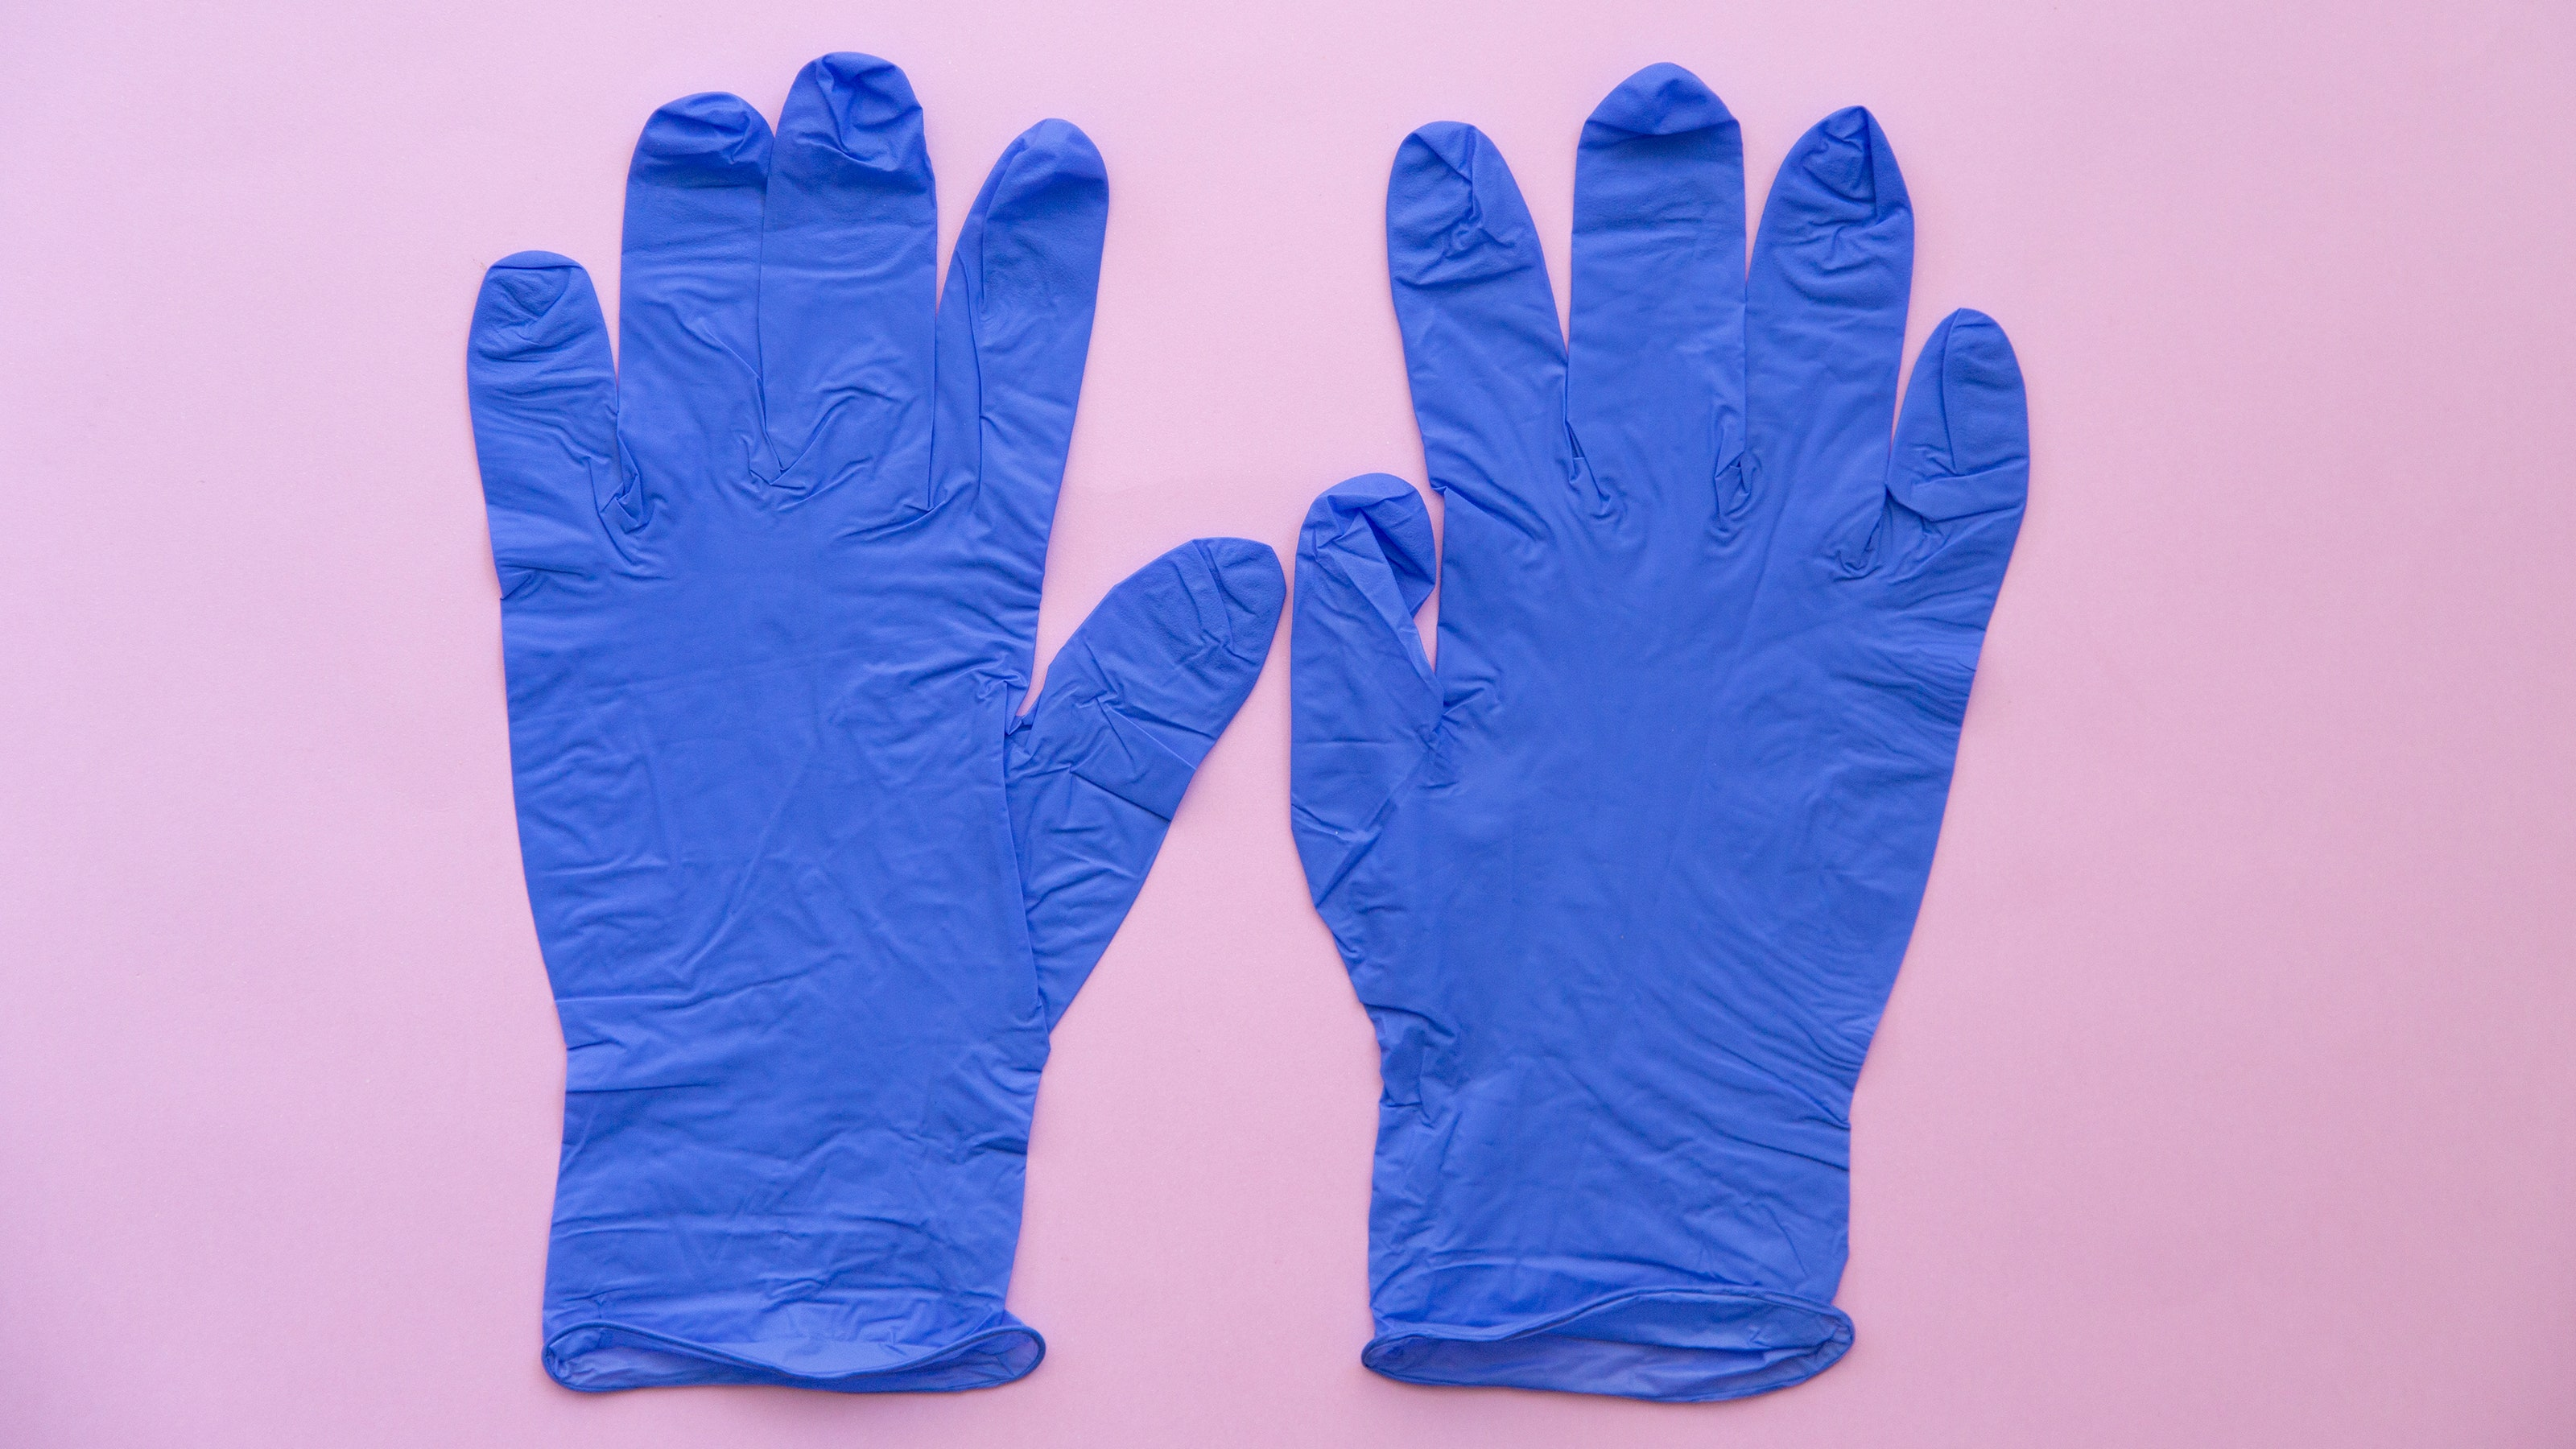Gloves: (458, 50, 1279, 1398), (1279, 37, 2026, 1407)
